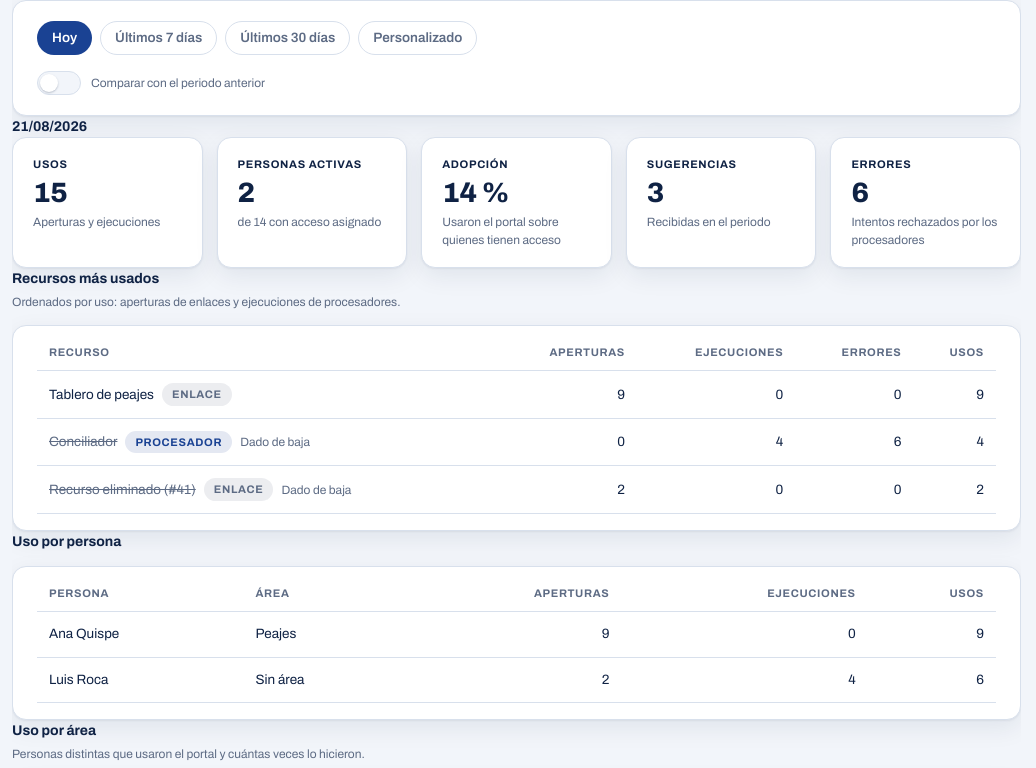
Test: la comparación › no agrega filas: solo compara las del periodo actual
Step 1. Click the switch named "Comparar con el periodo anterior" → (59, 83), box [37,71,81,95]
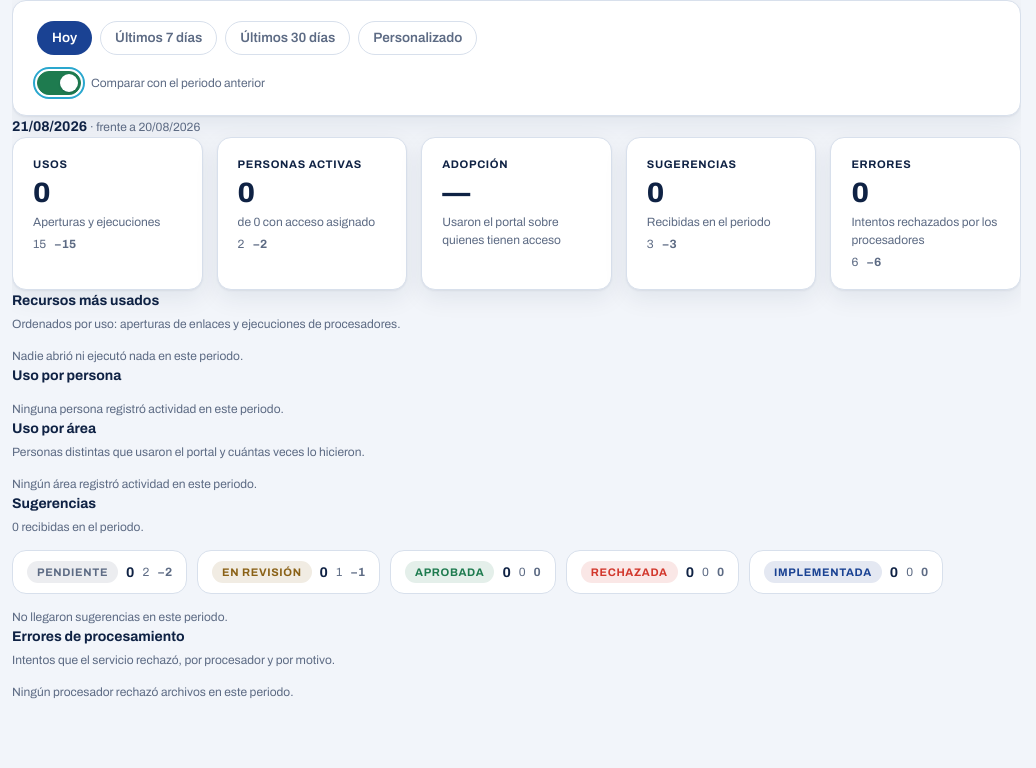
Expected: the text "Nadie abrió ni ejecutó nada en este periodo." is shown, [12,349,243,363]
Expected: the text "Tablero de peajes" is gone
